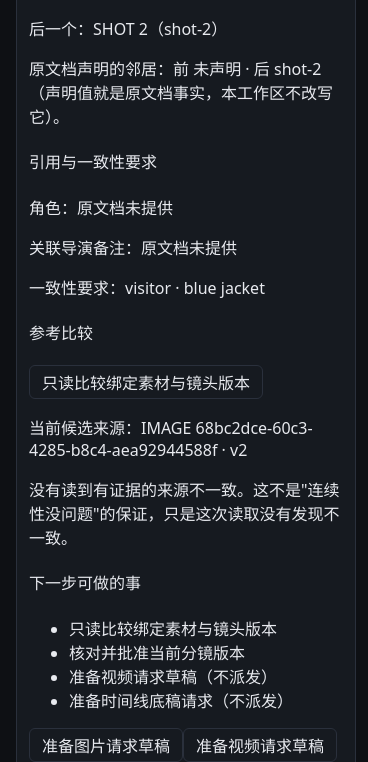
Test: 陈旧/损坏的引用被如实报告 › 参考比较只在有绑定素材时给出结果，并且引用原版本
(page scrolled)
Click the button "只读比较绑定素材与镜头版本": (146, 382) [29,365,263,399]
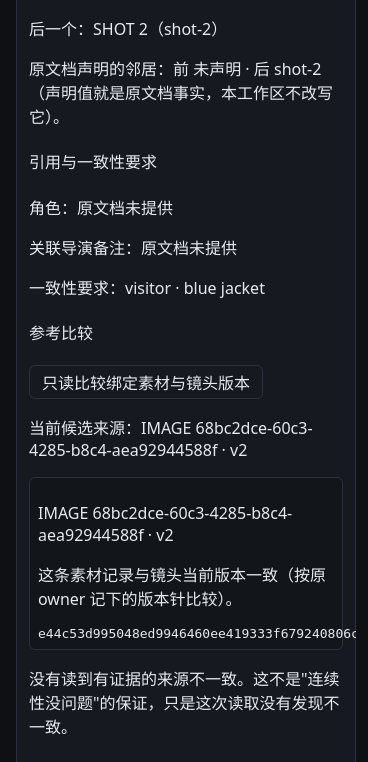
Expected: the text "当前候选来源：IMAGE 68bc2dce-60c3-4285-b8c4-aea92944588f · v2" is shown, [29,415,343,461]
Now the text "这条素材记录与镜头当前版本一致（按原 owner 记下的版本针比较）。" is shown, box [38,562,334,610]
